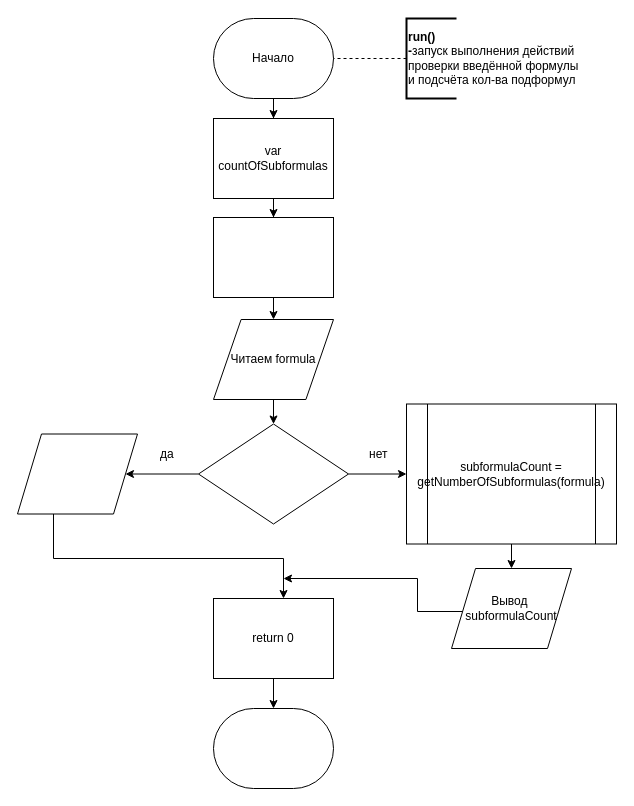
This 634x806 diagram has some shape labels left out. Here are the shapes that lost their labels. From the top down, the centre of each, then its label:
pixel 273 257: var subformulas = []
pixel 77 473: Выводим "Ошибка ввода. Повторите ввод.
pixel 273 473: ! isFormula(formula)
pixel 273 748: Конец
